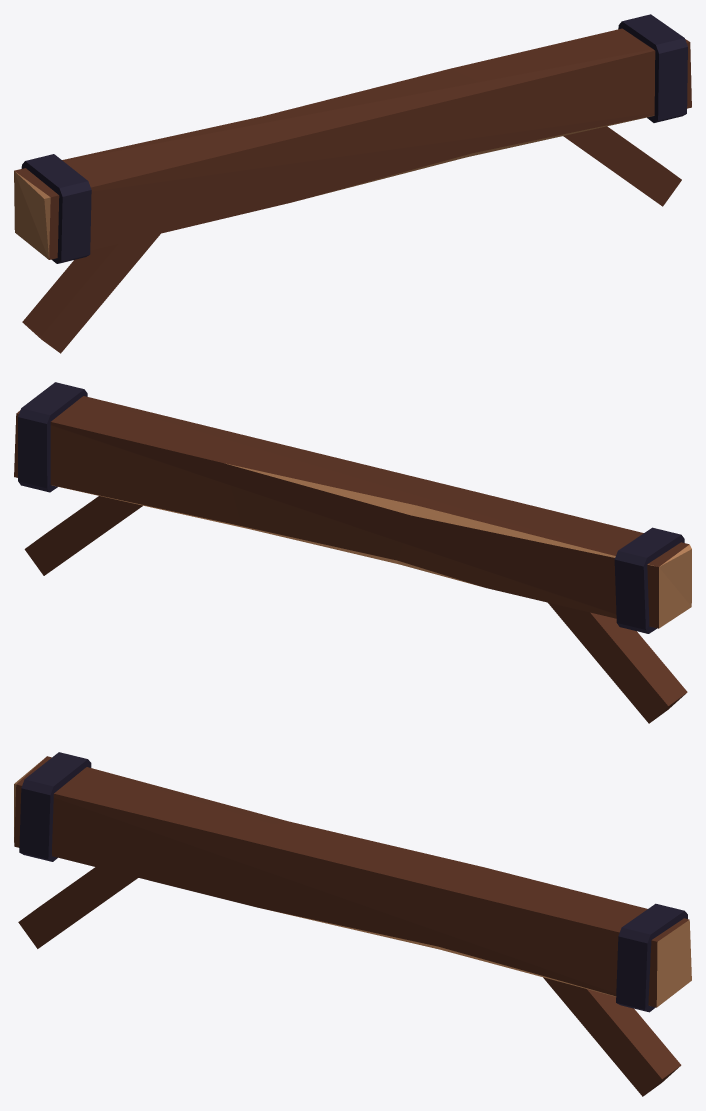
File: MCastle_InteriorSupports_06.FBX
The picture shows the model from 3 angles, top to bottom: view 1: azimuth 30°, elevation 25°; view 2: azimuth 150°, elevation 25°; view 3: azimuth 330°, elevation 25°; orthographic projection.
Parts seen in each view (by area): view 1: MCastle_InteriorSupports_06_LOD0; view 2: MCastle_InteriorSupports_06_LOD0; view 3: MCastle_InteriorSupports_06_LOD0.
Part boxes in pixels (<box>): MCastle_InteriorSupports_06_LOD0: <box>14,14,691,353</box>; MCastle_InteriorSupports_06_LOD0: <box>14,382,691,723</box>; MCastle_InteriorSupports_06_LOD0: <box>14,752,691,1096</box>.
Size of what is drawn, in the model's own units: 164 by 42.23 by 18.78.
